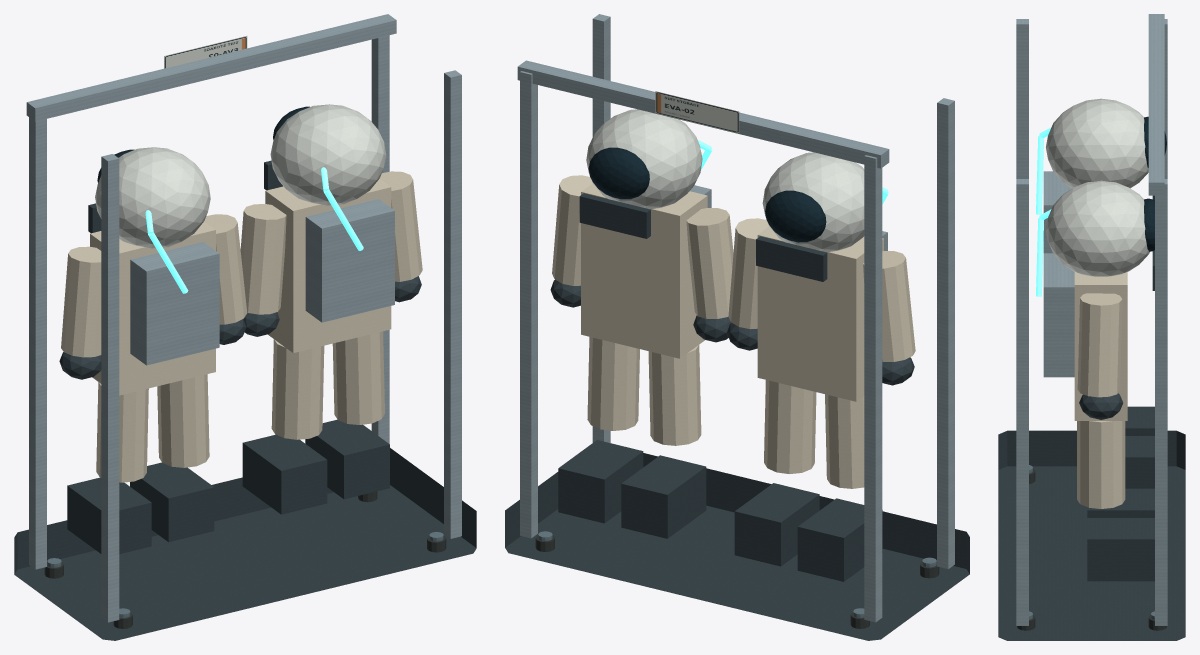
The model's file is suit_rack.glb.
3 renders of one model, left to right at view 1: azimuth 30°, elevation 25°; view 2: azimuth 150°, elevation 25°; view 3: azimuth 270°, elevation 25°, orthographic. The views are drawn at different scales.
Parts seen in each view (by area): view 1: Base__graphite, Frame__alloy, Life_Support_Backpack__alloy, Boots__graphite, Suit_Helmet__shell, Suit_Legs__cream, Suit_Arms__cream, Suit_Torso__cream, Support_Rail__alloy, Gloves__graphite, Suit_Service_Lines__cyan, static__label_EVA-02 (+2 smaller); view 2: Base__graphite, Suit_Torso__cream, Frame__alloy, Boots__graphite, Suit_Legs__cream, Suit_Arms__cream, Suit_Helmet__shell, Support_Rail__alloy, Visor__screen, Suit_Chest_Panel__graphite, Gloves__graphite, static__label_EVA-02 (+1 smaller); view 3: Base__graphite, Suit_Helmet__shell, Frame__alloy, Boots__graphite, Life_Support_Backpack__alloy, Suit_Arms__cream, Suit_Legs__cream, Support_Rail__alloy, Suit_Torso__cream, Suit_Service_Lines__cyan, Gloves__graphite, Visor__screen (+1 smaller).
Boxes of the visible parts, bbox=[...] form: Base__graphite: bbox=[14, 448, 476, 640]; Frame__alloy: bbox=[29, 35, 461, 622]; Life_Support_Backpack__alloy: bbox=[130, 199, 394, 365]; Boots__graphite: bbox=[67, 419, 389, 553]; Suit_Helmet__shell: bbox=[95, 104, 386, 248]; Suit_Legs__cream: bbox=[96, 331, 384, 482]; Suit_Arms__cream: bbox=[61, 171, 422, 357]; Suit_Torso__cream: bbox=[90, 178, 391, 395]; Support_Rail__alloy: bbox=[26, 14, 396, 121]; Gloves__graphite: bbox=[59, 276, 421, 379]; Suit_Service_Lines__cyan: bbox=[145, 167, 363, 293]; static__label_EVA-02: bbox=[164, 36, 247, 68]; Base__graphite: bbox=[505, 453, 969, 640]; Suit_Torso__cream: bbox=[581, 183, 883, 401]; Frame__alloy: bbox=[520, 14, 954, 622]; Boots__graphite: bbox=[558, 440, 882, 581]; Suit_Legs__cream: bbox=[587, 337, 864, 488]; Suit_Arms__cream: bbox=[552, 175, 915, 361]; Suit_Helmet__shell: bbox=[586, 109, 864, 252]; Support_Rail__alloy: bbox=[517, 60, 889, 168]; Visor__screen: bbox=[588, 147, 826, 242]; Suit_Chest_Panel__graphite: bbox=[579, 193, 827, 281]; Gloves__graphite: bbox=[550, 279, 914, 385]; static__label_EVA-02: bbox=[655, 91, 739, 133]; Base__graphite: bbox=[998, 430, 1185, 640]; Suit_Helmet__shell: bbox=[1046, 98, 1149, 276]; Frame__alloy: bbox=[1016, 19, 1167, 625]; Boots__graphite: bbox=[1087, 406, 1154, 581]; Life_Support_Backpack__alloy: bbox=[1043, 171, 1074, 377]; Suit_Arms__cream: bbox=[1077, 293, 1122, 397]; Suit_Legs__cream: bbox=[1077, 421, 1125, 508]; Support_Rail__alloy: bbox=[1148, 14, 1164, 195]; Suit_Torso__cream: bbox=[1074, 272, 1127, 420]; Suit_Service_Lines__cyan: bbox=[1036, 127, 1051, 296]; Gloves__graphite: bbox=[1079, 393, 1123, 419]; Visor__screen: bbox=[1144, 116, 1166, 251].
Bounding box in the file's own units: 1.79 × 2.26 × 0.81.
Materials: 9 (9 with a texture image).
